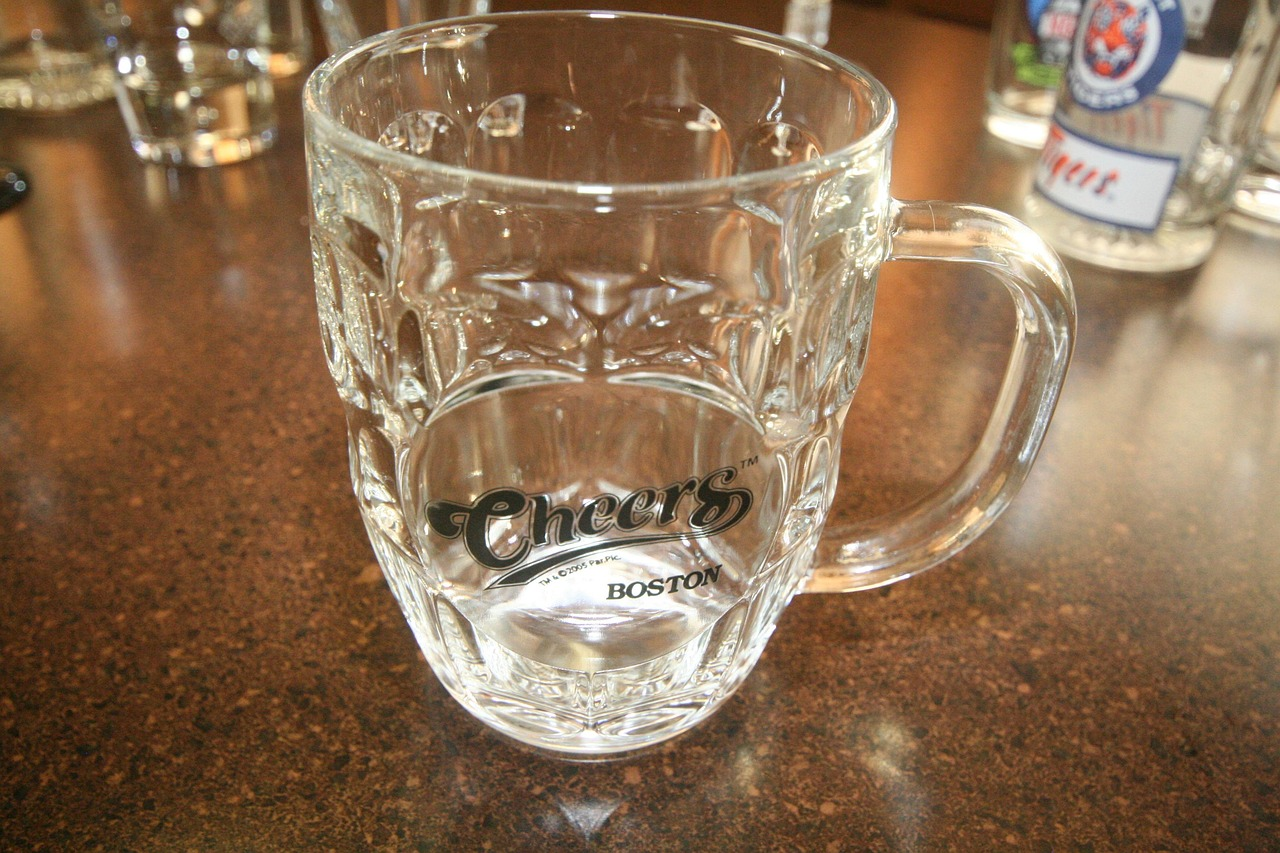mug: (244, 39, 1123, 781)
